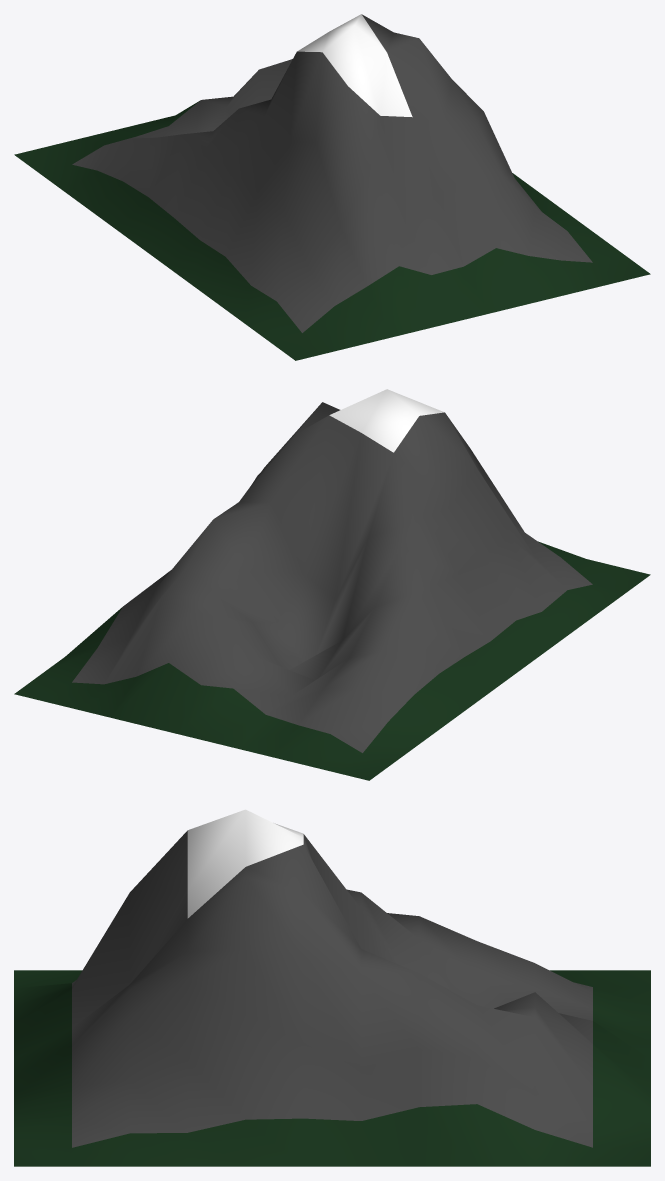
Rendered from mountain.v1.fbx.
3 views of the same model, one above another, from view 1: azimuth 30°, elevation 25°; view 2: azimuth 150°, elevation 25°; view 3: azimuth 270°, elevation 25° (orthographic). The views are drawn at different scales.
Parts seen in each view (by area): view 1: Landscape; view 2: Landscape; view 3: Landscape.
Part boxes in pixels (x1,y1,x2,y2): Landscape: (14,14,650,360); Landscape: (14,389,650,780); Landscape: (14,809,650,1166).
Bounding box in the file's own units: 3774 × 2285 × 5181.
